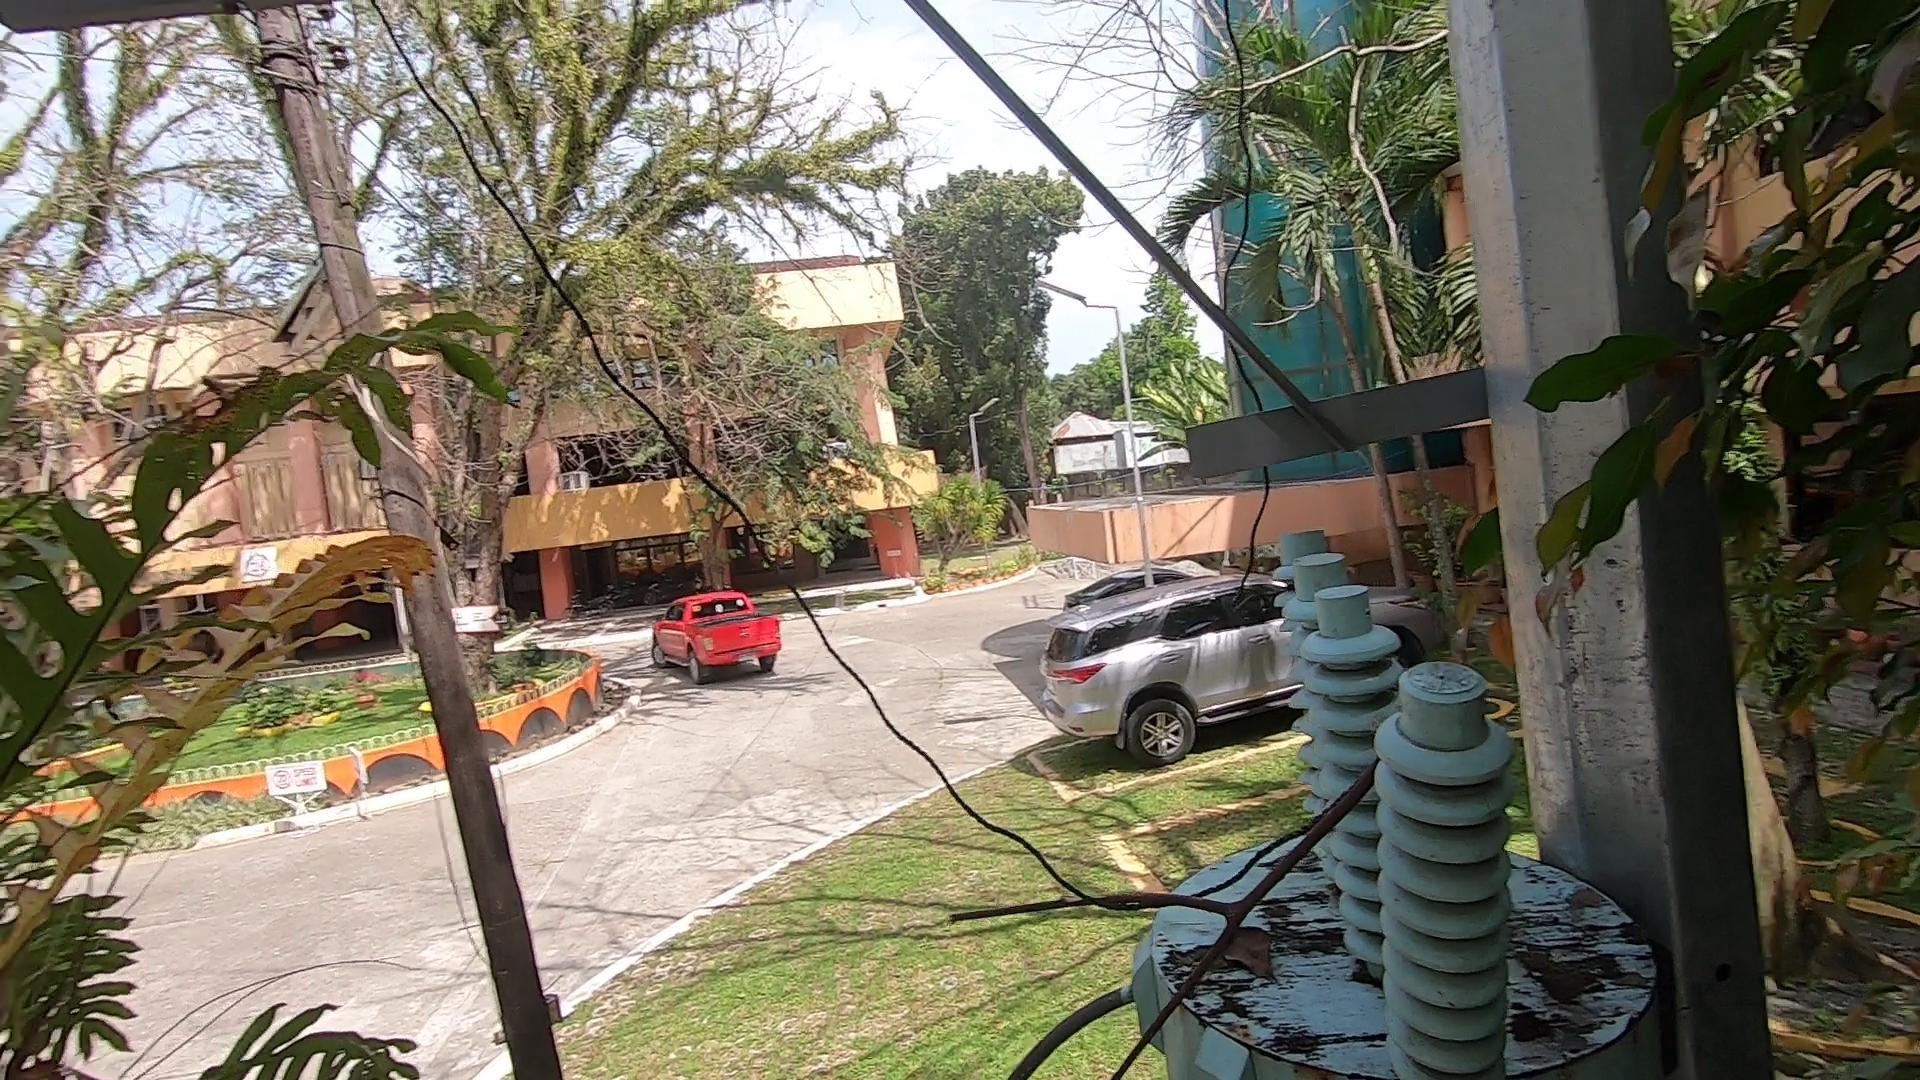leaf: (1213, 919, 1292, 989)
tree branch: (915, 742, 1385, 1080)
